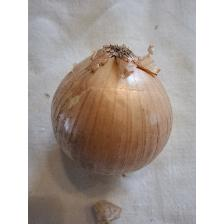Zwiebel: (50, 42, 174, 176)
